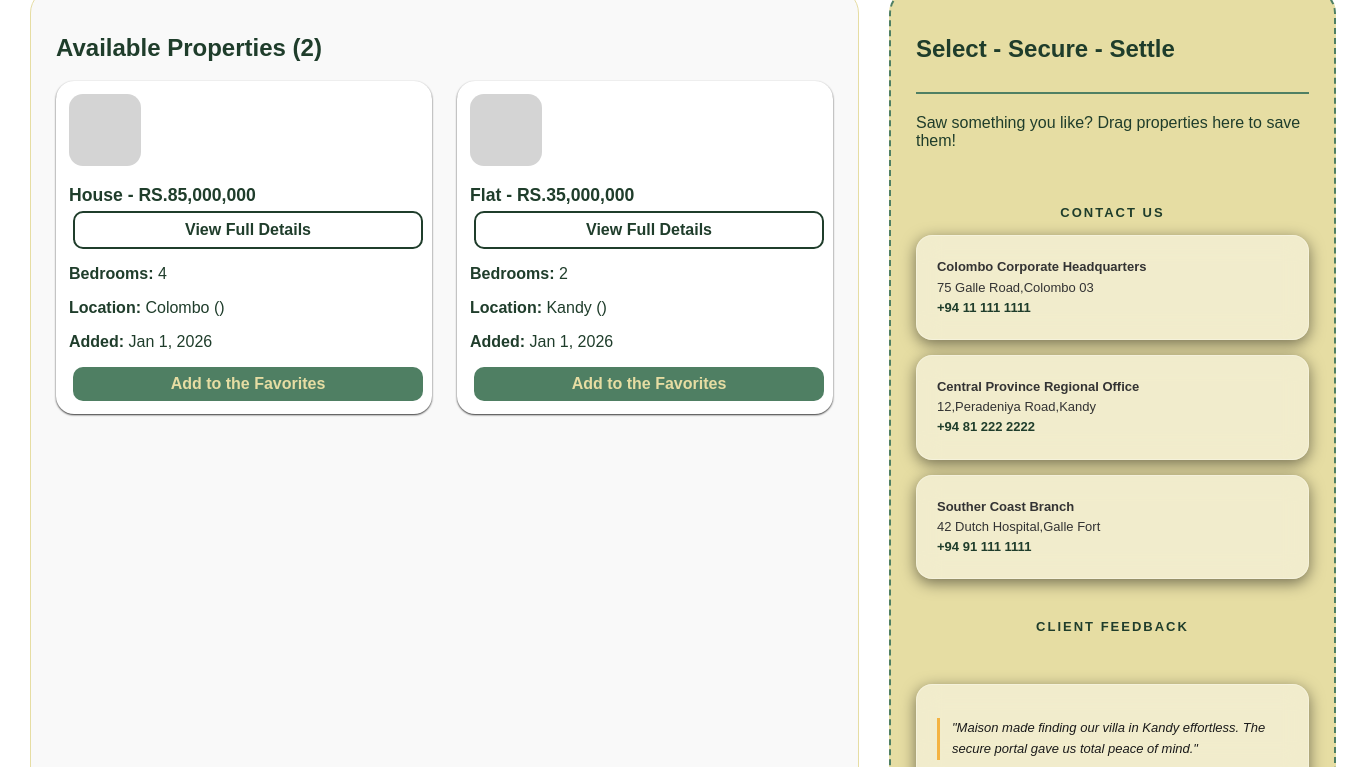
Maison Function Testing › Adds property to favorites section once clicked on button
This screenshot has width=1366, height=767.
(page scrolled)
Click the button "Add to the Favorites" below "85,000,000" at x=248, y=384, box [73,367,423,401]
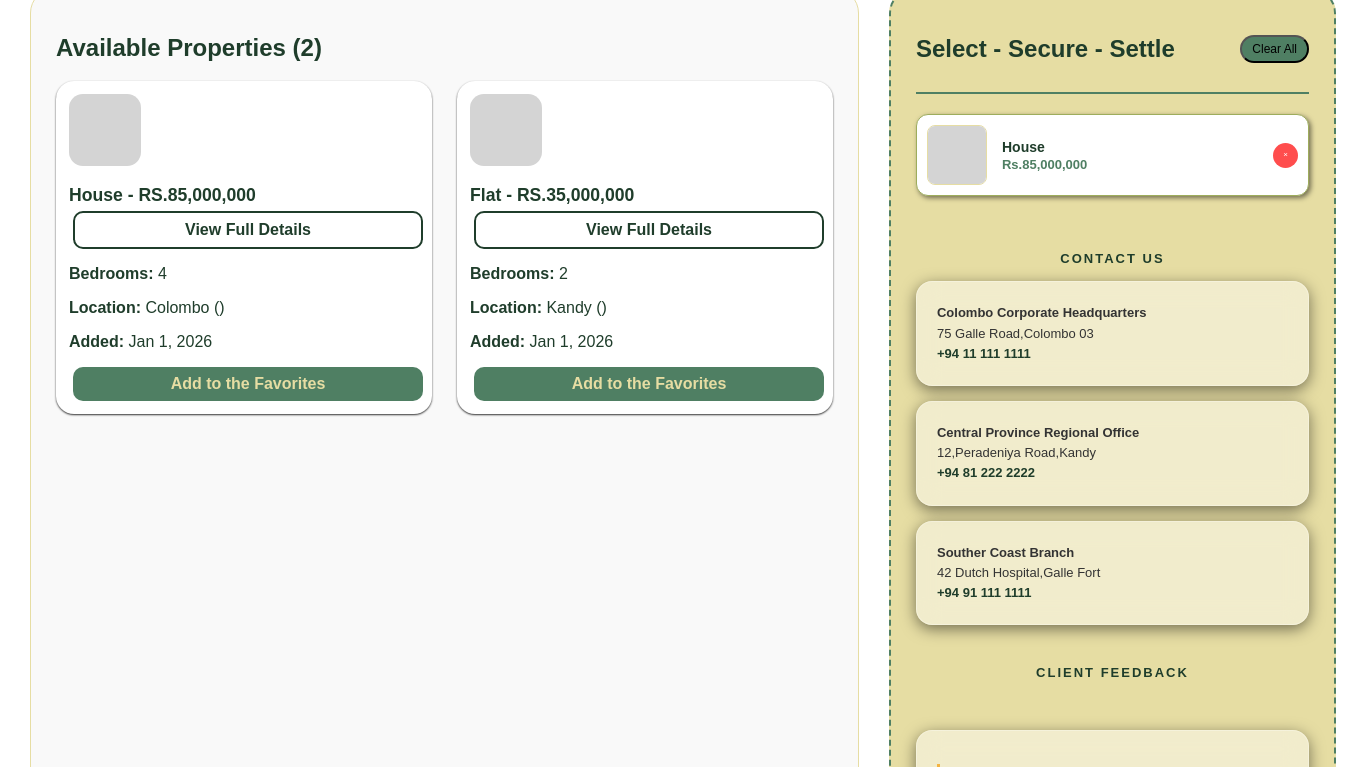
Expected: the element "Select - Secure - Settle Clear All" no longer shows "Drag properties here", [916,15,1309,94]
